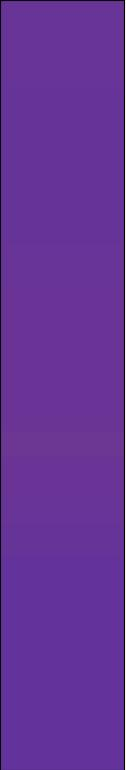safe: (9, 10, 119, 759)
